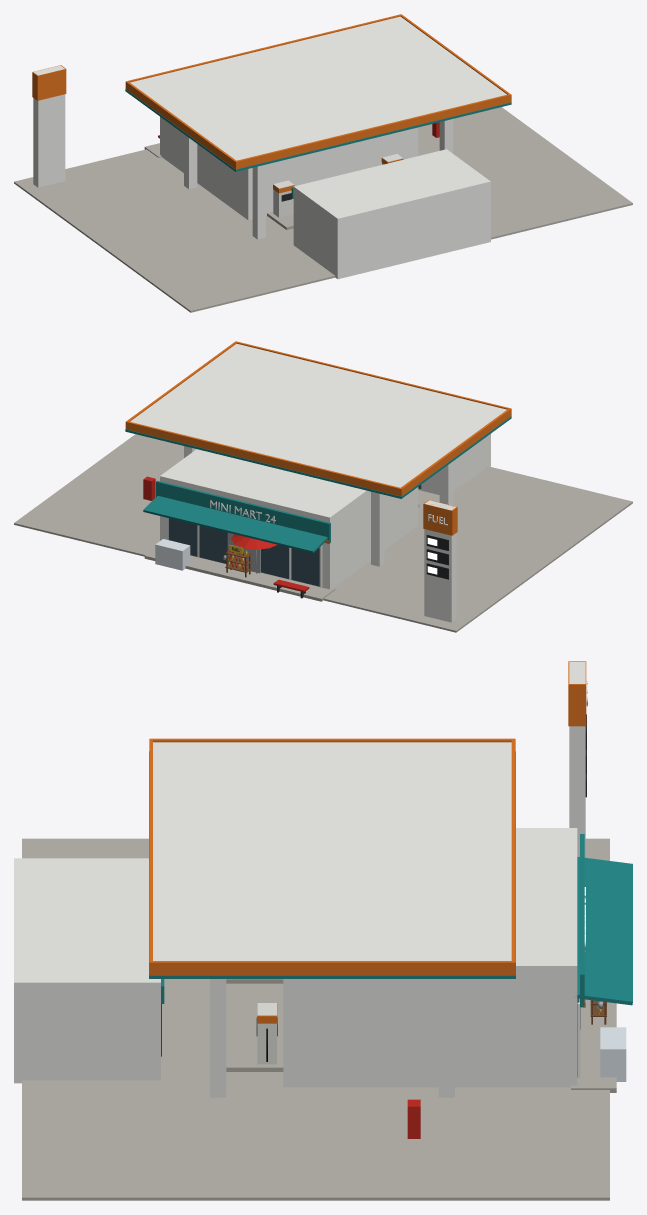
The model's file is pois.glb.
3 views of the same model, one above another, from view 1: azimuth 30°, elevation 25°; view 2: azimuth 150°, elevation 25°; view 3: azimuth 270°, elevation 25° (orthographic). The views are drawn at different scales.
Visible parts, largest first — view 1: FuelStation, MiniMart; view 2: FuelStation, MiniMart, BottleStand; view 3: FuelStation, MiniMart.
Boxes of the visible parts, <box> form: FuelStation: <box>14,14,632,312</box>; MiniMart: <box>144,117,418,220</box>; FuelStation: <box>14,341,632,632</box>; MiniMart: <box>143,449,418,601</box>; BottleStand: <box>223,534,277,577</box>; FuelStation: <box>14,661,609,1200</box>; MiniMart: <box>283,828,632,1092</box>.
Size of the model in its own units: 26 by 6.4 by 18.95.
